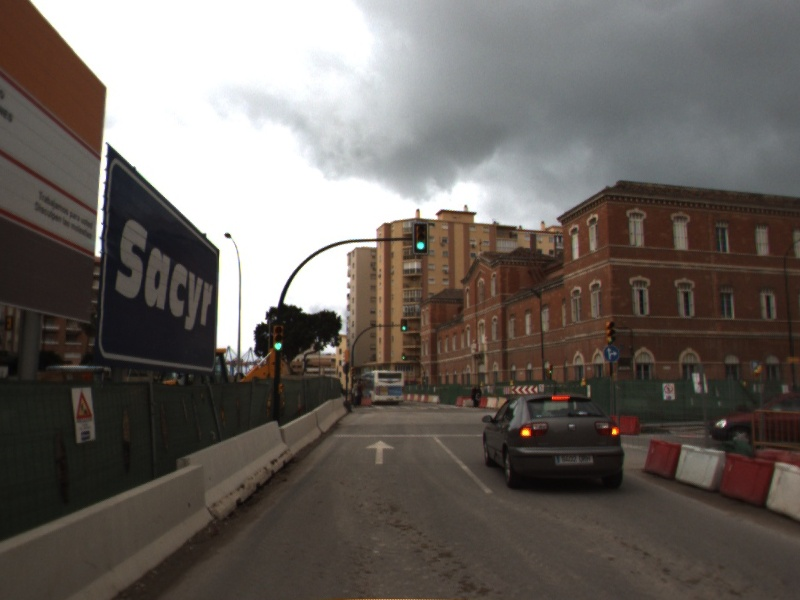STRAIGHT: (363, 439, 397, 466)
